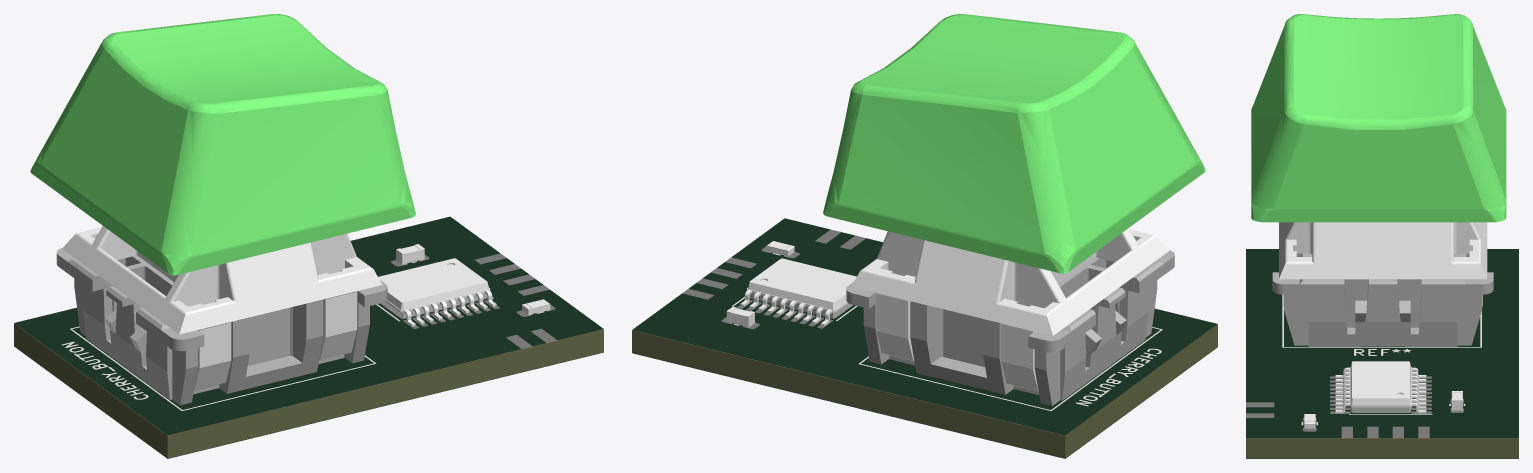
Rendered from REPLICATE_glue_cherry_button_SMD.glb.
3 renders of one model, left to right at view 1: azimuth 30°, elevation 25°; view 2: azimuth 150°, elevation 25°; view 3: azimuth 270°, elevation 25°, orthographic. The views are drawn at different scales.
Parts seen in each view (by area): view 1: Compound.015, Face.002, Compound.011, Compound.010, Compound.016, Compound.002, Face.001, Face.005, Face.004; view 2: Compound.015, Face.002, Compound.011, Compound.010, Compound.016, Compound.002, Face.001, Face.005, Face.004; view 3: Compound.015, Face.002, Compound.010, Compound.011, Compound.016, Compound.002, Face.001, Face.005.
Part boxes in pixels (box(x1,y1,x2,y2)): Compound.015: box(30, 14, 415, 275); Face.002: box(14, 216, 603, 435); Compound.011: box(62, 226, 382, 390); Compound.010: box(56, 248, 387, 405); Compound.016: box(14, 323, 603, 458); Compound.002: box(378, 258, 496, 326); Face.001: box(391, 253, 556, 348); Face.005: box(62, 261, 544, 410); Face.004: box(14, 346, 603, 458); Compound.015: box(823, 14, 1205, 273); Face.002: box(632, 218, 1217, 435); Compound.011: box(851, 228, 1169, 391); Compound.010: box(846, 250, 1174, 405); Compound.016: box(632, 324, 1217, 458); Compound.002: box(740, 258, 856, 326); Face.001: box(682, 229, 865, 328); Face.005: box(732, 253, 1162, 410); Face.004: box(632, 347, 1217, 458); Compound.015: box(1251, 14, 1506, 222); Face.002: box(1246, 249, 1518, 437); Compound.010: box(1272, 253, 1493, 346); Compound.011: box(1279, 222, 1487, 306); Compound.016: box(1246, 438, 1518, 458); Compound.002: box(1335, 361, 1426, 413); Face.001: box(1246, 376, 1463, 437); Face.005: box(1282, 294, 1481, 425).
Bounding box in the file's own units: 31.55 × 24.02 × 19.25.
